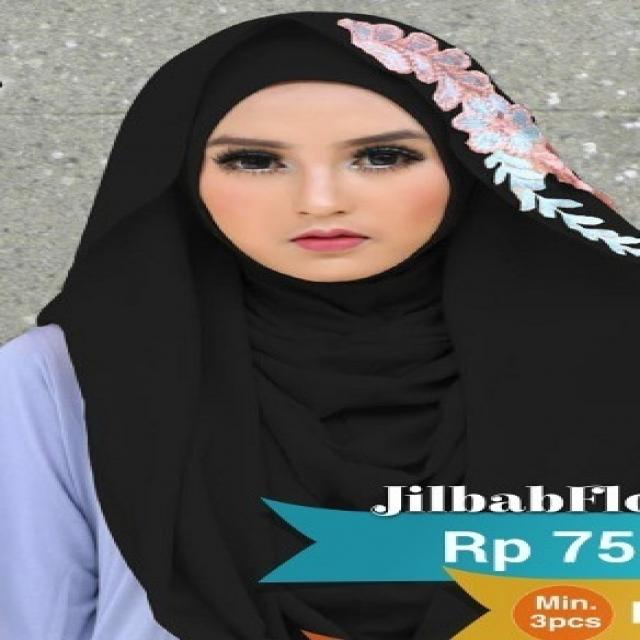head: (153, 10, 515, 299)
